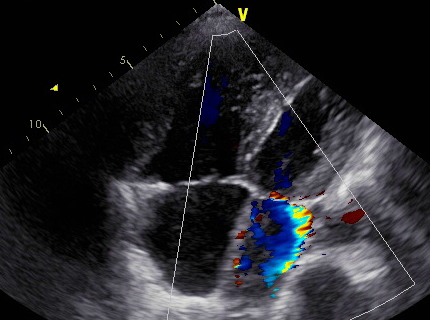MR: (248, 185, 313, 246)
